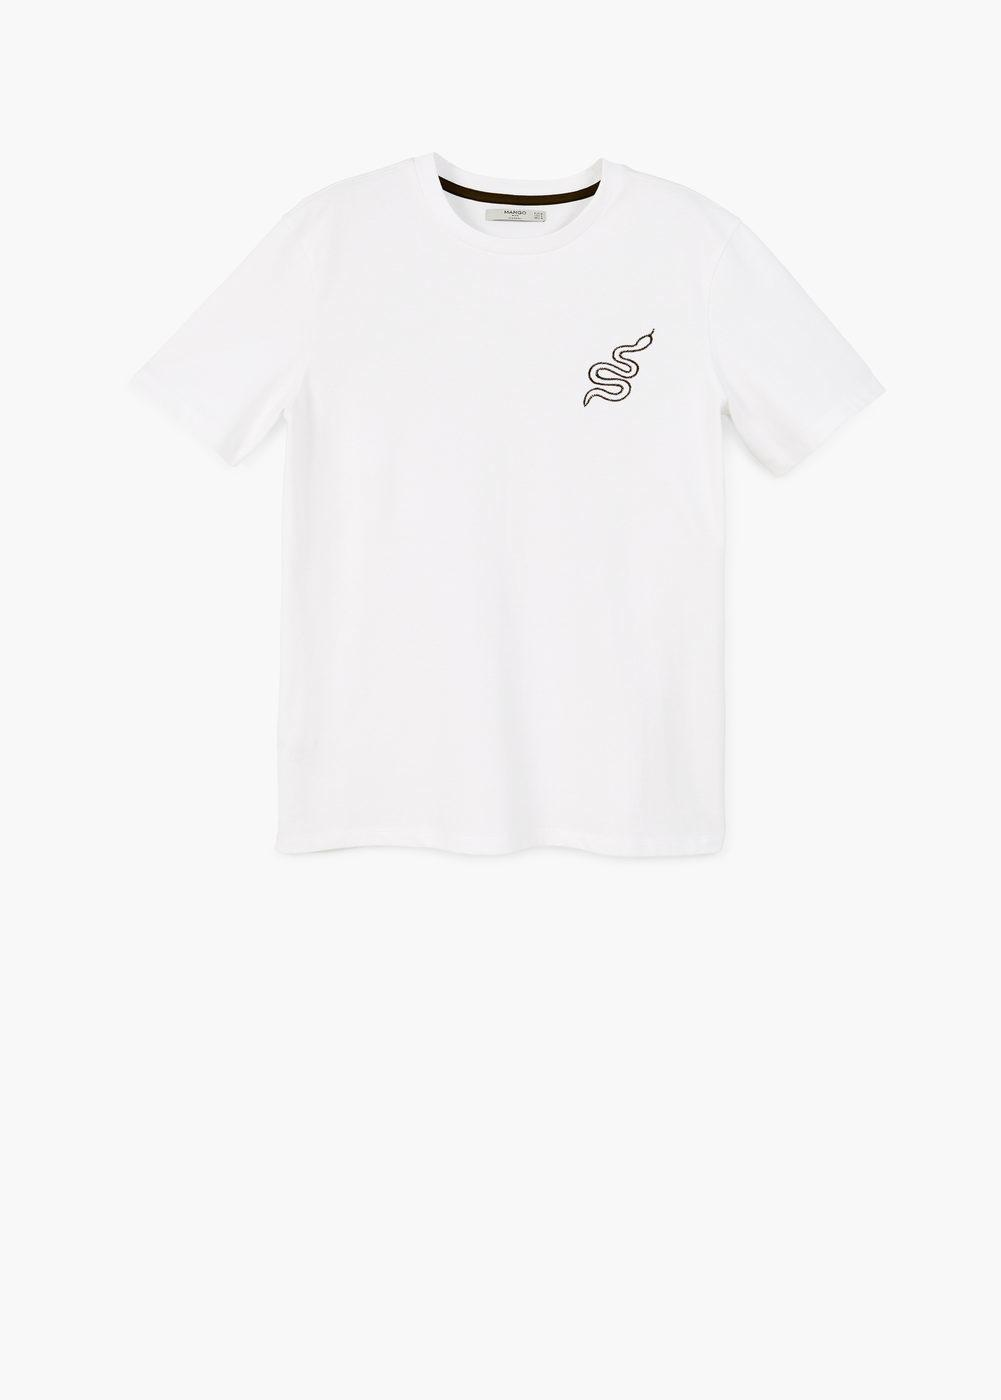teeshirt: (146, 114, 929, 925)
